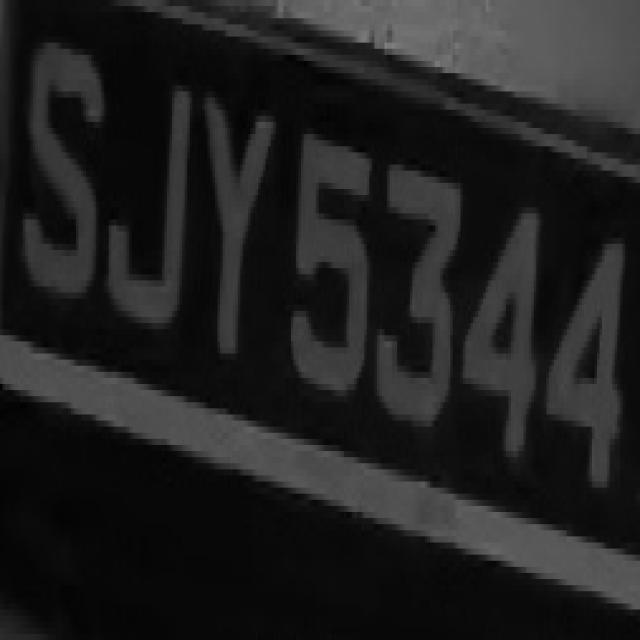3: (382, 140, 470, 451)
4: (463, 177, 551, 463), (544, 207, 630, 488)
5: (288, 92, 377, 414)
J: (96, 43, 195, 329)
S: (23, 12, 96, 329)
Y: (197, 67, 276, 378)
